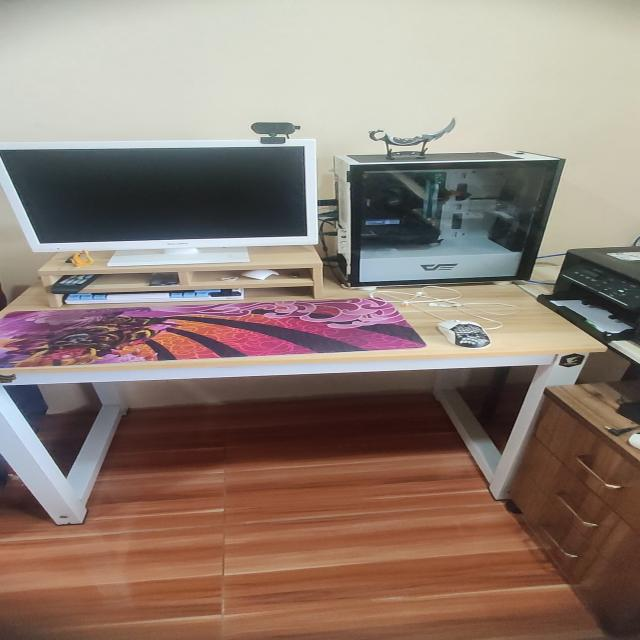table: (0, 276, 610, 525)
